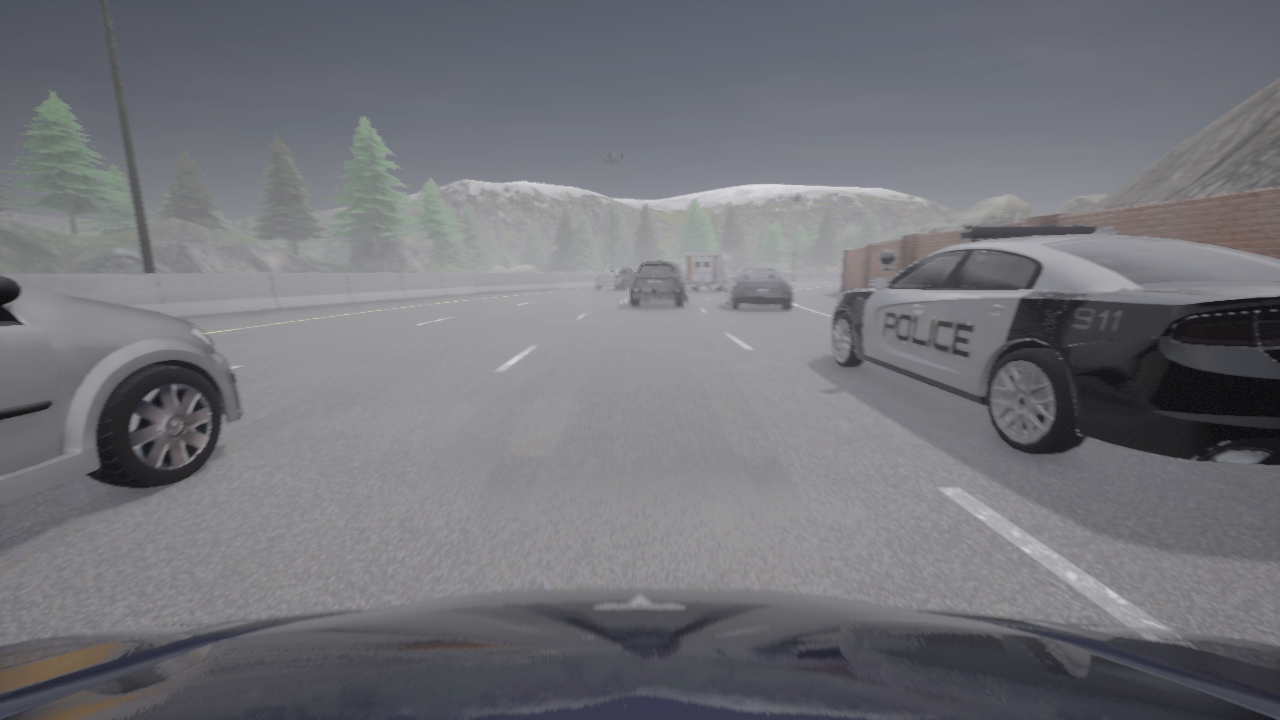cyclist: (0, 588, 1279, 719), (831, 224, 1279, 465), (726, 268, 792, 309), (630, 260, 688, 306), (685, 253, 737, 291), (595, 266, 635, 289)
